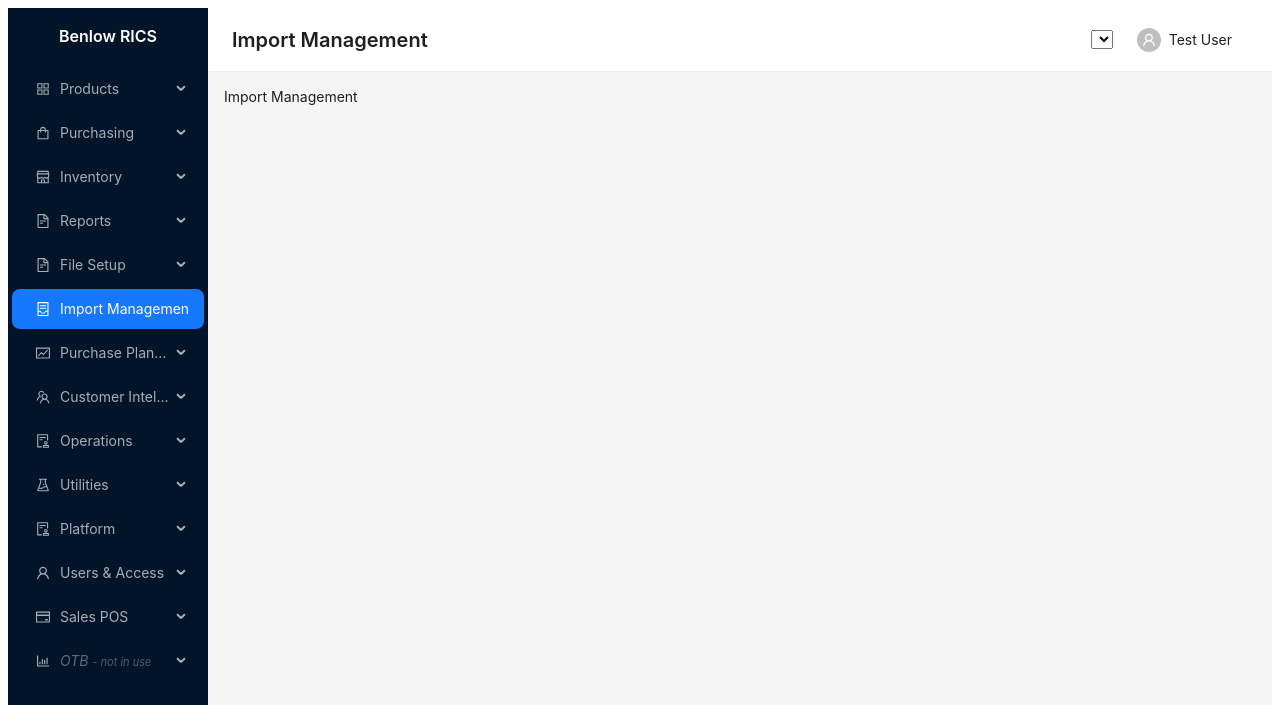
Module Shell Navigation › navigates from Import Management when another module title is clicked
The image size is (1280, 705).
Click the menu item "Purchasing" at (85, 133), box [36,124,134,141]
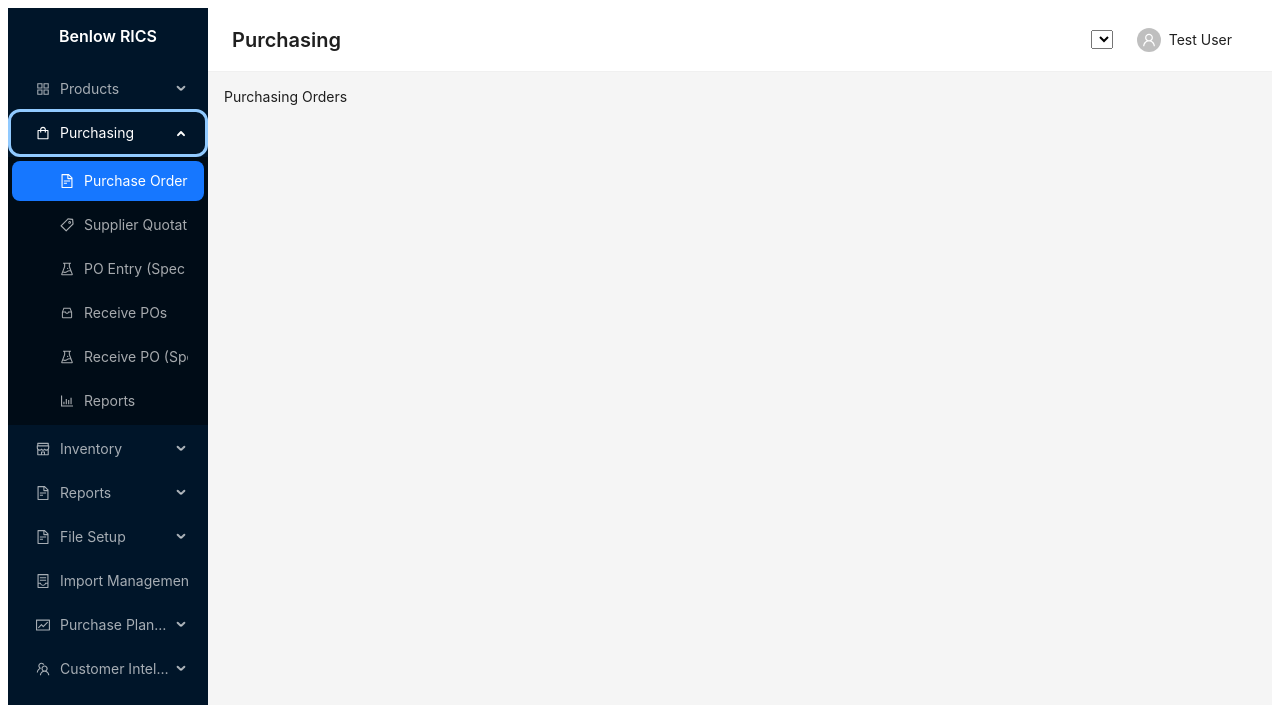
Check: the text "Purchasing Orders" is shown, box [224,88,347,105]
Check: the heading "Purchasing" is shown, box [232,26,341,54]
